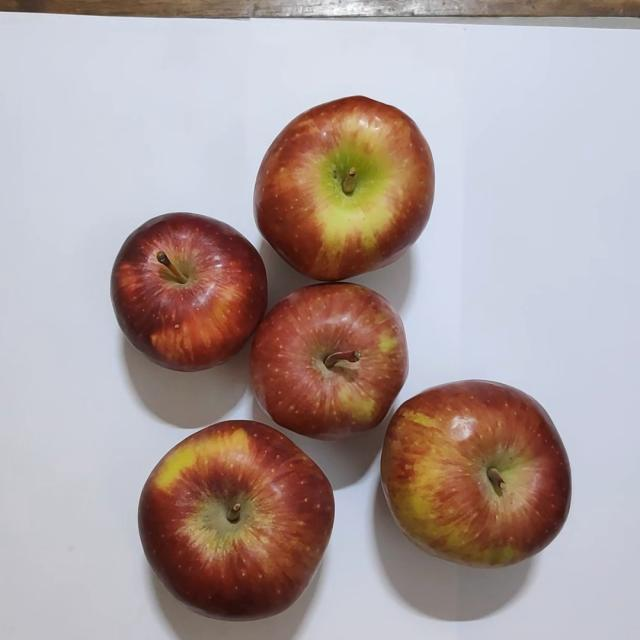apple: (126, 415, 346, 629), (377, 374, 580, 580), (250, 92, 440, 286), (240, 277, 412, 448), (106, 211, 272, 381)
